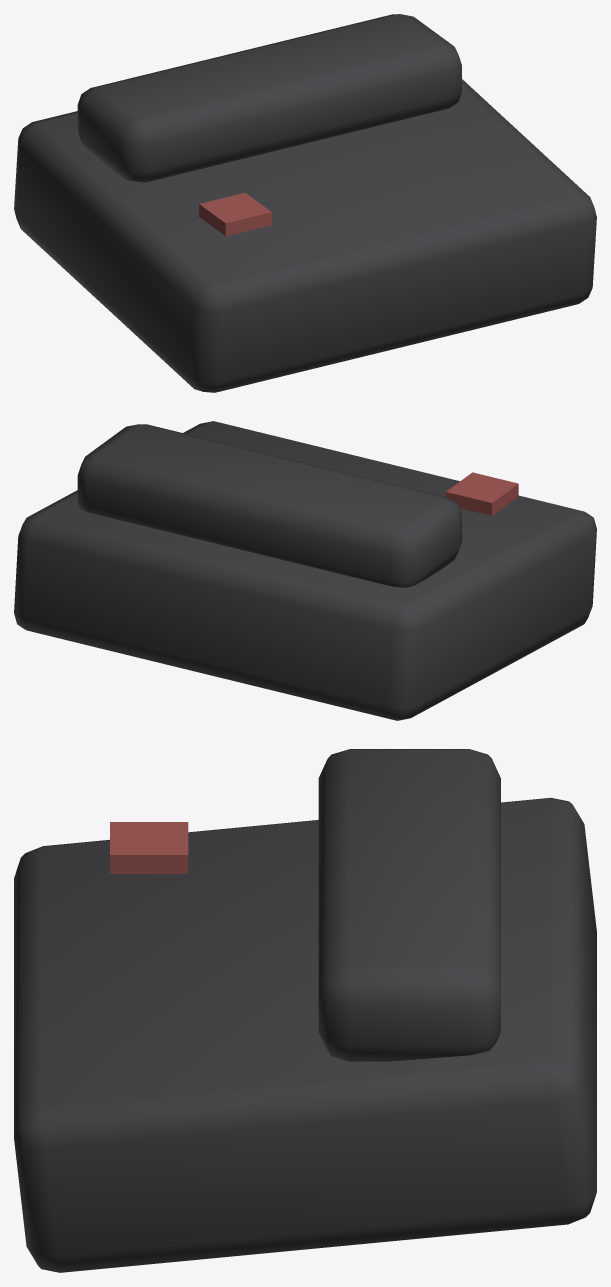
File: phone.glb
The picture shows the model from 3 angles, top to bottom: view 1: azimuth 30°, elevation 25°; view 2: azimuth 150°, elevation 25°; view 3: azimuth 270°, elevation 25°; orthographic projection. The views are drawn at different scales.
Parts seen in each view (by area): view 1: phone; view 2: phone; view 3: phone.
Boxes of the visible parts, x1,y1,x2,y2 form: phone: (14,14,596,392); phone: (14,421,596,720); phone: (14,749,596,1272).
Bounding box in the file's own units: 0.26 × 0.1201 × 0.2236.
